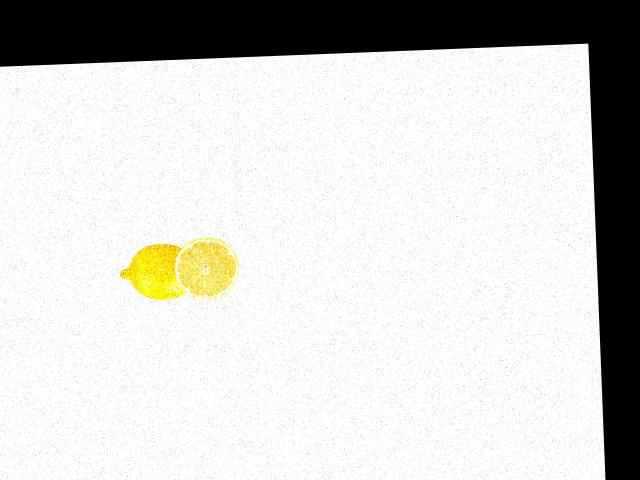lemon: (118, 234, 195, 304)
